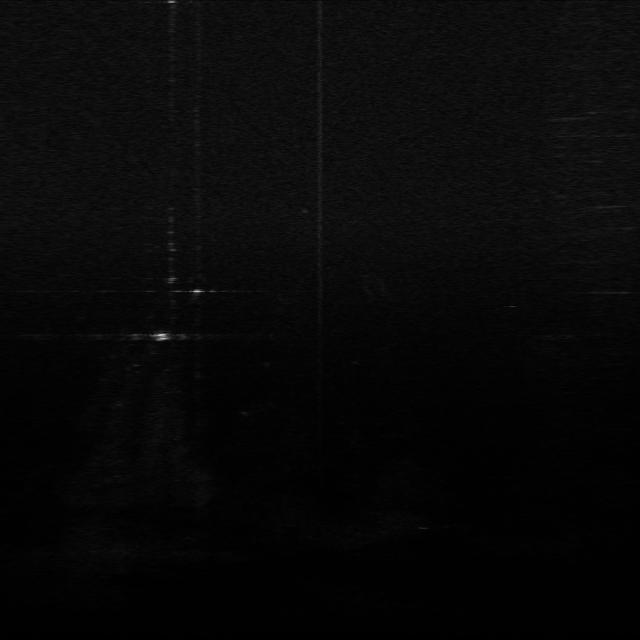rov: (149, 329, 172, 344)
